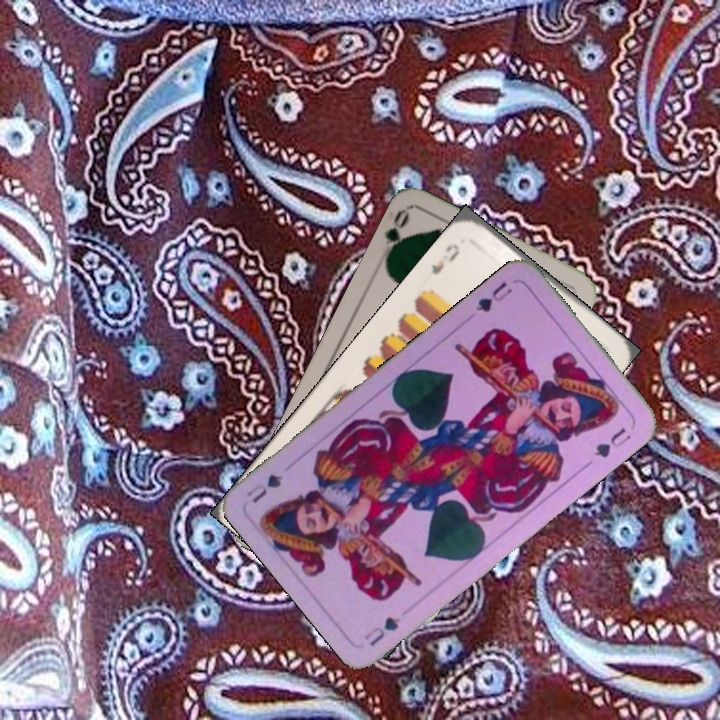E9: (427, 239, 463, 277)
GO: (381, 206, 412, 265)
GU: (471, 277, 515, 318), (360, 612, 403, 649)
